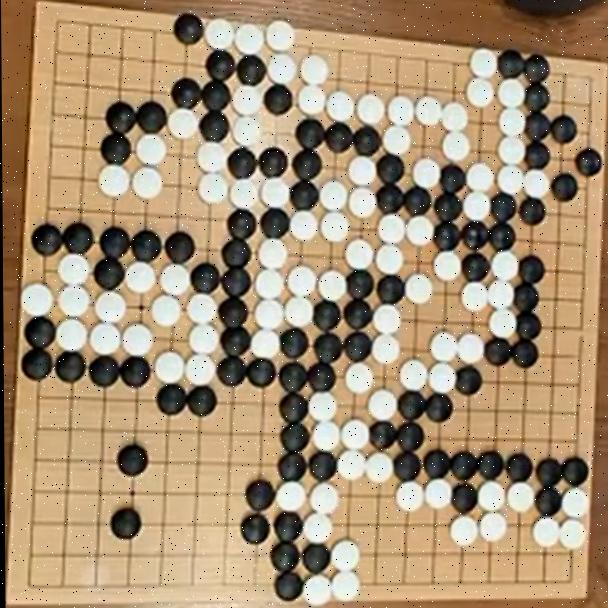corners: (33, 3, 87, 50), (14, 561, 56, 602), (549, 559, 579, 599), (568, 68, 606, 94)
